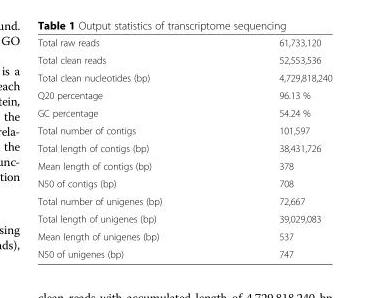table: (36, 36, 331, 259)
table column: (36, 36, 219, 259), (219, 36, 331, 259)
table row: (36, 50, 331, 68), (36, 68, 331, 86), (36, 103, 331, 121), (36, 121, 331, 139), (36, 156, 331, 174), (36, 174, 331, 192), (36, 209, 331, 227), (36, 86, 331, 103), (36, 139, 331, 156), (36, 192, 331, 209), (36, 227, 331, 244), (36, 244, 331, 259), (36, 36, 331, 50)
